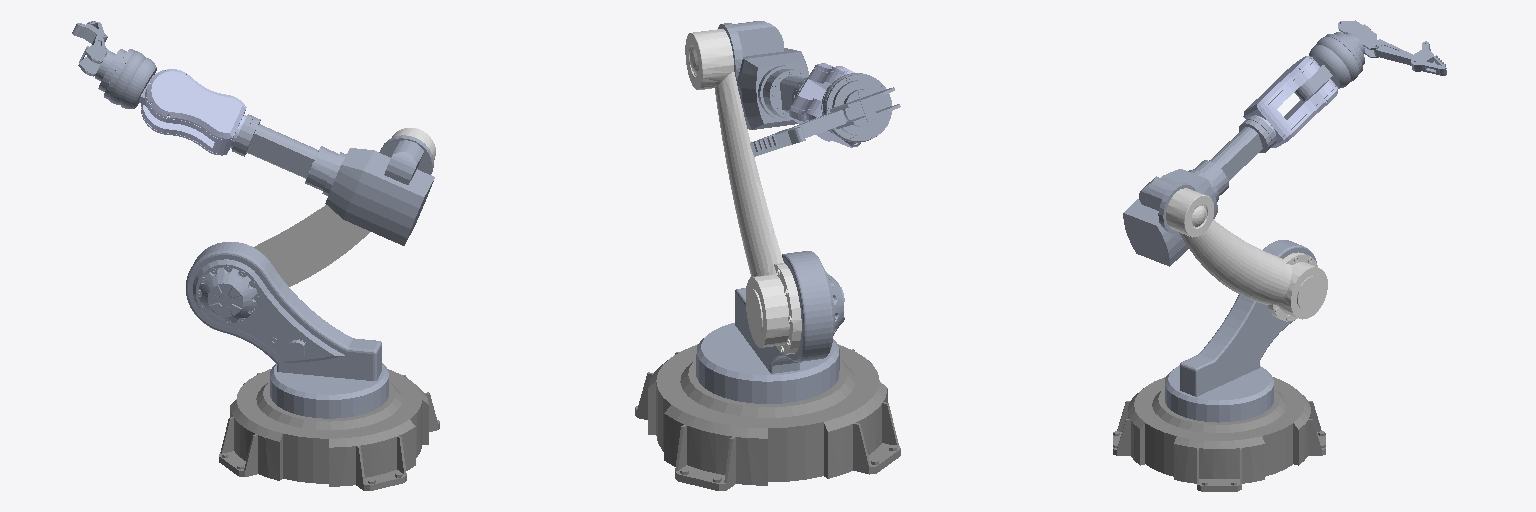
URDF robot description (arm2):
<?xml version="1.0" encoding="utf-8"?>
<!-- This URDF was automatically created by SolidWorks to URDF Exporter! Originally created by [author] ([email redacted]) 
     Commit Version: 1.6.0-4-g7f85cfe  Build Version: 1.6.7995.38578
     For more information, please see http://wiki.ros.org/sw_urdf_exporter -->
<robot
  name="arm2">
  <link
    name="base_link">
    <inertial>
      <origin
        xyz="-1.1102E-16 2.2204E-16 0.039627"
        rpy="0 0 0" />
      <mass
        value="5.5104" />
      <inertia
        ixx="0.032533"
        ixy="5.7234E-17"
        ixz="1.7979E-18"
        iyy="0.032533"
        iyz="-4.7415E-18"
        izz="0.058905" />
    </inertial>
    <visual>
      <origin
        xyz="0 0 0"
        rpy="0 0 0" />
      <geometry>
        <mesh
          filename="package://arm2/meshes/base_link.STL" />
      </geometry>
      <material
        name="Gazebo/Green">
        <color
          rgba="0.6 0.6 0.6 1" />
      </material>
    </visual>
    <collision>
      <origin
        xyz="0 0 0"
        rpy="0 0 0" />
      <geometry>
        <mesh
          filename="package://arm2/meshes/base_link.STL" />
      </geometry>
    </collision>
  </link>
  <link
    name="link1">
    <inertial>
      <origin
        xyz="-0.056315 0.081396 0.0023965"
        rpy="0 0 0" />
      <mass
        value="2.2549" />
      <inertia
        ixx="0.011608"
        ixy="0.0088797"
        ixz="0.00040169"
        iyy="0.01588"
        iyz="-0.00035105"
        izz="0.023156" />
    </inertial>
    <visual>
      <origin
        xyz="0 0 0"
        rpy="0 0 0" />
      <geometry>
        <mesh
          filename="package://arm2/meshes/link1.STL" />
      </geometry>
      <material
        name="Gazebo/Red">
        <color
          rgba="0.66667 0.69804 0.76863 1" />
      </material>
    </visual>
    <collision>
      <origin
        xyz="0 0 0"
        rpy="0 0 0" />
      <geometry>
        <mesh
          filename="package://arm2/meshes/link1.STL" />
      </geometry>
    </collision>
  </link>
  <joint
    name="joint1"
    type="continuous">
    <origin
      xyz="0 0 0.085"
      rpy="1.5708 0 -0.74673" />
    <parent
      link="base_link" />
    <child
      link="link1" />
    <axis
      xyz="0 1 0" />
  </joint>
  <link
    name="link2">
    <inertial>
      <origin
        xyz="-0.142663613176583 0.0352229223825857 0.00806022588587538"
        rpy="0 0 0" />
      <mass
        value="0.920713555975187" />
      <inertia
        ixx="0.00061486733830369"
        ixy="-7.16275973386533E-05"
        ixz="0.000152423363787186"
        iyy="0.0182053007337512"
        iyz="3.03732107580609E-05"
        izz="0.017861302567327" />
    </inertial>
    <visual>
      <origin
        xyz="0 0 0"
        rpy="0 0 0" />
      <geometry>
        <mesh
          filename="package://arm2/meshes/link2.STL" />
      </geometry>
      <material
        name="Gazebo/Blue">
        <color
          rgba="0.898039215686275 0.898039215686275 0.898039215686275 1" />
      </material>
    </visual>
    <collision>
      <origin
        xyz="0 0 0"
        rpy="0 0 0" />
      <geometry>
        <mesh
          filename="package://arm2/meshes/link2.STL" />
      </geometry>
    </collision>
  </link>
  <joint
    name="joint2"
    type="continuous">
    <origin
      xyz="-0.15 0.16 0"
      rpy="-1.5708 0 -2.4278" />
    <parent
      link="link1" />
    <child
      link="link2" />
    <axis
      xyz="0 1 0" />
  </joint>
  <link
    name="link3">
    <inertial>
      <origin
        xyz="-0.0446166902632723 0.0399157420458244 -0.0260371637300619"
        rpy="0 0 0" />
      <mass
        value="1.43146473147269" />
      <inertia
        ixx="0.00186636943424452"
        ixy="0.000324747082507763"
        ixz="-9.34134620176995E-05"
        iyy="0.00807676480884427"
        iyz="0.00011285860202943"
        izz="0.0084455456784283" />
    </inertial>
    <visual>
      <origin
        xyz="0 0 0"
        rpy="0 0 0" />
      <geometry>
        <mesh
          filename="package://arm2/meshes/link3.STL" />
      </geometry>
      <material
        name="Gazebo/Green">
        <color
          rgba="0.666666666666667 0.698039215686274 0.768627450980392 1" />
      </material>
    </visual>
    <collision>
      <origin
        xyz="0 0 0"
        rpy="0 0 0" />
      <geometry>
        <mesh
          filename="package://arm2/meshes/link3.STL" />
      </geometry>
    </collision>
  </link>
  <joint
    name="joint3"
    type="continuous">
    <origin
      xyz="-0.35 0 0"
      rpy="1.5708 -1.0682 -3.1416" />
    <parent
      link="link2" />
    <child
      link="link3" />
    <axis
      xyz="0 0 1" />
  </joint>
  <link
    name="link4">
    <inertial>
      <origin
        xyz="-0.104023389652315 1.3429757306227E-10 1.37910349806702E-10"
        rpy="0 0 0" />
      <mass
        value="0.581435340015361" />
      <inertia
        ixx="0.000596524046931501"
        ixy="3.0180766197839E-12"
        ixz="4.08716975736946E-12"
        iyy="0.00158017082218178"
        iyz="-2.28910193290867E-10"
        izz="0.0014063461459381" />
    </inertial>
    <visual>
      <origin
        xyz="0 0 0"
        rpy="0 0 0" />
      <geometry>
        <mesh
          filename="package://arm2/meshes/link4.STL" />
      </geometry>
      <material
        name="Gazebo/Green">
        <color
          rgba="0.792156862745098 0.819607843137255 0.933333333333333 1" />
      </material>
    </visual>
    <collision>
      <origin
        xyz="0 0 0"
        rpy="0 0 0" />
      <geometry>
        <mesh
          filename="package://arm2/meshes/link4.STL" />
      </geometry>
    </collision>
  </link>
  <joint
    name="joint4"
    type="continuous">
    <origin
      xyz="-0.21294 0.045 -0.0275"
      rpy="-0.89378 0 0" />
    <parent
      link="link3" />
    <child
      link="link4" />
    <axis
      xyz="1 0 0" />
  </joint>
  <link
    name="link5">
    <inertial>
      <origin
        xyz="-0.00067831823908715 1.11022302462516E-15 0.058961855128781"
        rpy="0 0 0" />
      <mass
        value="0.339144547925523" />
      <inertia
        ixx="0.000358769992191287"
        ixy="1.35525271560688E-20"
        ixz="-3.56575702010593E-06"
        iyy="0.000355541202477725"
        iyz="-1.28749007982654E-19"
        izz="0.000248853470602005" />
    </inertial>
    <visual>
      <origin
        xyz="0 0 0"
        rpy="0 0 0" />
      <geometry>
        <mesh
          filename="package://arm2/meshes/link5.STL" />
      </geometry>
      <material
        name="Gazebo/Green">
        <color
          rgba="0.666666666666667 0.698039215686274 0.768627450980392 1" />
      </material>
    </visual>
    <collision>
      <origin
        xyz="0 0 0"
        rpy="0 0 0" />
      <geometry>
        <mesh
          filename="package://arm2/meshes/link5.STL" />
      </geometry>
    </collision>
  </link>
  <joint
    name="joint5"
    type="continuous">
    <origin
      xyz="-0.14806 0 0"
      rpy="3.0426 1.5708 0" />
    <parent
      link="link4" />
    <child
      link="link5" />
    <axis
      xyz="1 0 0" />
  </joint>
  <link
    name="link6">
    <inertial>
      <origin
        xyz="-0.0419966133772153 -1.11022302462516E-16 5.55111512312578E-17"
        rpy="0 0 0" />
      <mass
        value="0.0762574810565131" />
      <inertia
        ixx="3.99525744954328E-05"
        ixy="-9.52912065661088E-21"
        ixz="-1.86347248395946E-20"
        iyy="3.7955979870062E-05"
        iyz="6.35274710440725E-21"
        izz="3.20288004196062E-05" />
    </inertial>
    <visual>
      <origin
        xyz="0 0 0"
        rpy="0 0 0" />
      <geometry>
        <mesh
          filename="package://arm2/meshes/link6.STL" />
      </geometry>
      <material
        name="Gazebo/Green">
        <color
          rgba="0.666666666666667 0.698039215686274 0.768627450980392 1" />
      </material>
    </visual>
    <collision>
      <origin
        xyz="0 0 0"
        rpy="0 0 0" />
      <geometry>
        <mesh
          filename="package://arm2/meshes/link6.STL" />
      </geometry>
    </collision>
  </link>
  <joint
    name="joint6"
    type="continuous">
    <origin
      xyz="-0.0005 0 0.068288"
      rpy="0.68644 1.5708 0" />
    <parent
      link="link5" />
    <child
      link="link6" />
    <axis
      xyz="1 0 0" />
  </joint>
  <link
    name="link7">
    <inertial>
      <origin
        xyz="-0.000171695716224329 -0.0477938544830655 -0.0357274171480635"
        rpy="0 0 0" />
      <mass
        value="0.0459845756601323" />
      <inertia
        ixx="6.09315616899348E-05"
        ixy="-1.06736207403745E-07"
        ixz="-4.5174034570255E-08"
        iyy="1.95971154056262E-05"
        iyz="-2.31066868313526E-05"
        izz="4.38592111632924E-05" />
    </inertial>
    <visual>
      <origin
        xyz="0 0 0"
        rpy="0 0 0" />
      <geometry>
        <mesh
          filename="package://arm2/meshes/link7.STL" />
      </geometry>
      <material
        name="Gazebo/Green">
        <color
          rgba="0.666666666666667 0.698039215686274 0.768627450980392 1" />
      </material>
    </visual>
    <collision>
      <origin
        xyz="0 0 0"
        rpy="0 0 0" />
      <geometry>
        <mesh
          filename="package://arm2/meshes/link7.STL" />
      </geometry>
    </collision>
  </link>
  <joint
    name="joint7"
    type="continuous">
    <origin
      xyz="-0.0593436351538184 0 -0.0401317279836453"
      rpy="1.3523308884143 0 1.57079632679489" />
    <parent
      link="link6" />
    <child
      link="link7" />
    <axis
      xyz="1 0 0" />
  </joint>
</robot>

--- Facts derived from the render (not from the file) ---
Views: 3 orthographic renders of the robot side by side, from view 1: azimuth 30°, elevation 25°; view 2: azimuth 150°, elevation 25°; view 3: azimuth 270°, elevation 25°.
Robot: arm2 — 8 links, 7 joints (7 continuous); root link base_link; default pose: all joints at 0.
Visible links, largest first — view 1: link1, base_link, link3, link4, link2, link5, link6, link7; view 2: base_link, link1, link2, link3, link6, link4, link7, link5; view 3: base_link, link1, link2, link3, link4, link5, link7, link6.
Boxes of the visible links, left/top/right/bottom form: link1: left=186, top=242, right=388, bottom=418; base_link: left=219, top=369, right=439, bottom=490; link3: left=232, top=114, right=434, bottom=245; link4: left=141, top=69, right=246, bottom=155; link2: left=254, top=128, right=435, bottom=286; link5: left=104, top=49, right=156, bottom=108; link6: left=78, top=45, right=126, bottom=91; link7: left=72, top=21, right=107, bottom=47; base_link: left=635, top=344, right=900, bottom=490; link1: left=696, top=251, right=844, bottom=403; link2: left=685, top=29, right=801, bottom=354; link3: left=718, top=21, right=808, bottom=129; link6: left=830, top=80, right=900, bottom=135; link4: left=788, top=63, right=860, bottom=147; link7: left=750, top=110, right=845, bottom=156; link5: left=821, top=73, right=891, bottom=142; base_link: left=1113, top=377, right=1325, bottom=491; link1: left=1165, top=240, right=1316, bottom=422; link2: left=1166, top=188, right=1327, bottom=321; link3: left=1123, top=116, right=1275, bottom=266; link4: left=1243, top=56, right=1337, bottom=147; link5: left=1294, top=34, right=1362, bottom=101; link7: left=1374, top=39, right=1446, bottom=75; link6: left=1334, top=20, right=1378, bottom=64.
Size in the robot's own frame: 0.4836 by 0.5485 by 0.6326 metres.
8 mesh visuals loaded from 8 distinct referenced files (8 binary STL).